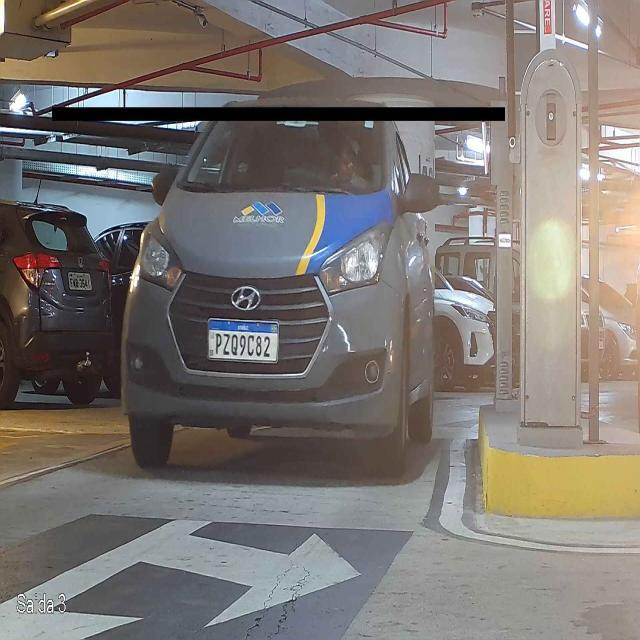mercosul_plate: (206, 317, 280, 365)
